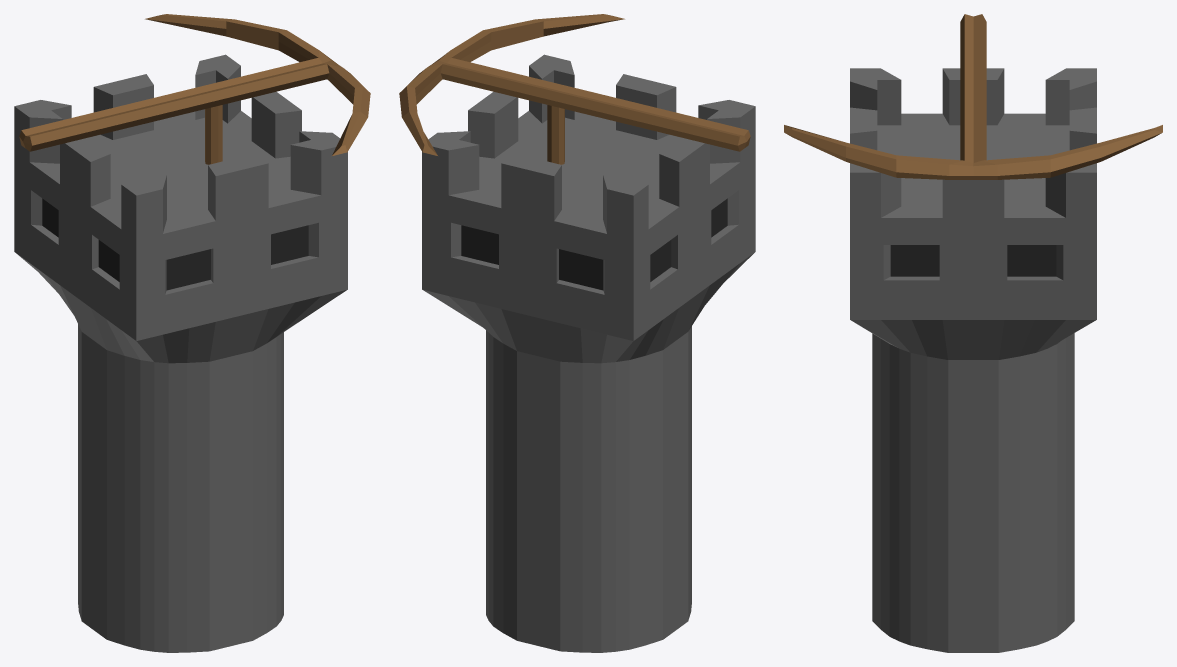
Rendered from ArcherTower.fbx.
The picture shows the model from 3 angles, left to right: view 1: azimuth 30°, elevation 25°; view 2: azimuth 150°, elevation 25°; view 3: azimuth 270°, elevation 25°; orthographic projection.
Parts seen in each view (by area): view 1: Cube; view 2: Cube; view 3: Cube.
Part boxes in pixels (x1,y1,x2,y2): Cube: (14, 14, 370, 652); Cube: (399, 14, 755, 652); Cube: (784, 14, 1162, 652).
Bounding box in the file's own units: 4.91 × 5.05 × 7.67.
